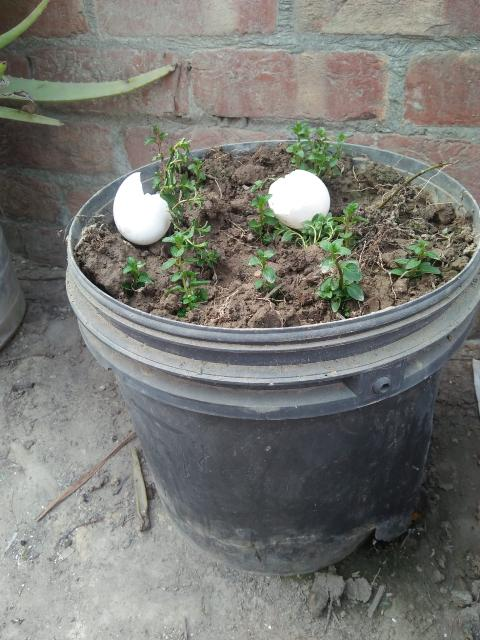Roto: (112, 171, 172, 246), (266, 168, 331, 230)
